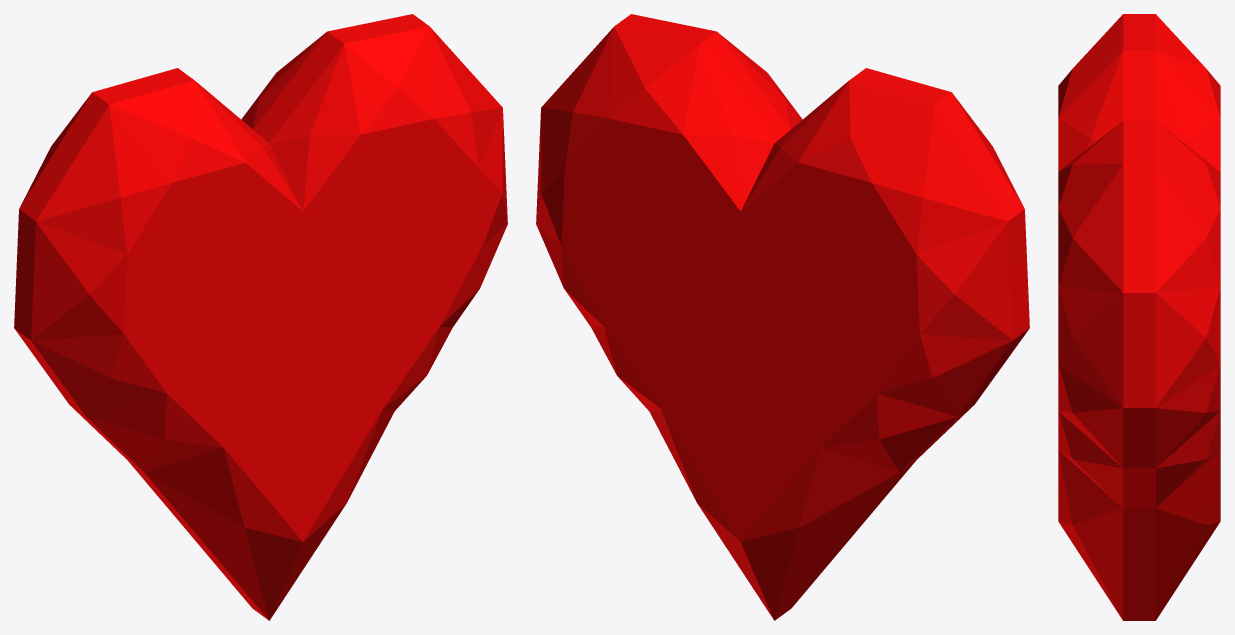
Rendered from Poker_Color1.fbx.
3 views of the same model, side by side, from view 1: azimuth 30°, elevation 25°; view 2: azimuth 150°, elevation 25°; view 3: azimuth 270°, elevation 25° (orthographic). The views are drawn at different scales.
Visible parts, largest first — view 1: Poker_Color1; view 2: Poker_Color1; view 3: Poker_Color1.
Boxes of the visible parts, box(x1,y1,x2,y2) form: Poker_Color1: box(14, 14, 507, 620); Poker_Color1: box(536, 14, 1029, 620); Poker_Color1: box(1058, 14, 1220, 620).
Size of the model in its own units: 71.72 by 80.33 by 22.03.
